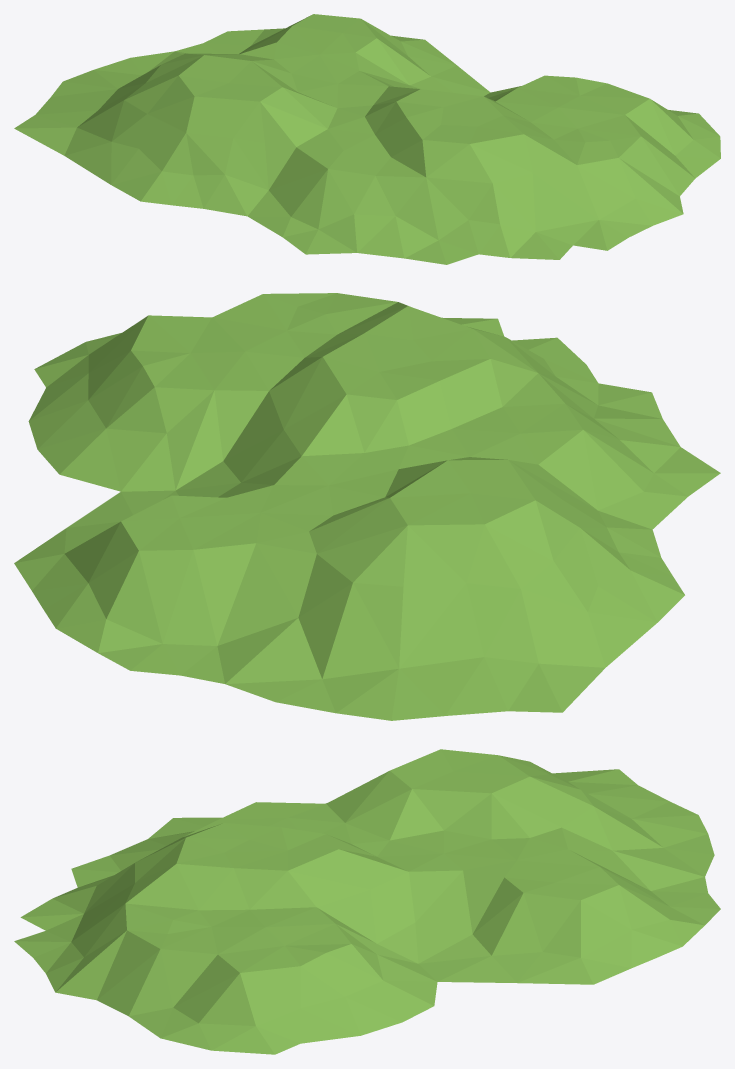
The model's file is MT_Mountain_M_b_05_LOD.fbx.
3 views of the same model, one above another, from view 1: azimuth 30°, elevation 25°; view 2: azimuth 150°, elevation 25°; view 3: azimuth 270°, elevation 25° (orthographic). The views are drawn at different scales.
Visible parts, largest first — view 1: MT_Mountain_M_b_05_LOD0; view 2: MT_Mountain_M_b_05_LOD0; view 3: MT_Mountain_M_b_05_LOD0.
Boxes of the visible parts, x1,y1,x2,y2 form: MT_Mountain_M_b_05_LOD0: (14, 14, 720, 264); MT_Mountain_M_b_05_LOD0: (14, 293, 720, 720); MT_Mountain_M_b_05_LOD0: (14, 749, 720, 1054).
Size of what is drawn, in the model's own units: 4141 by 511 by 4336.
